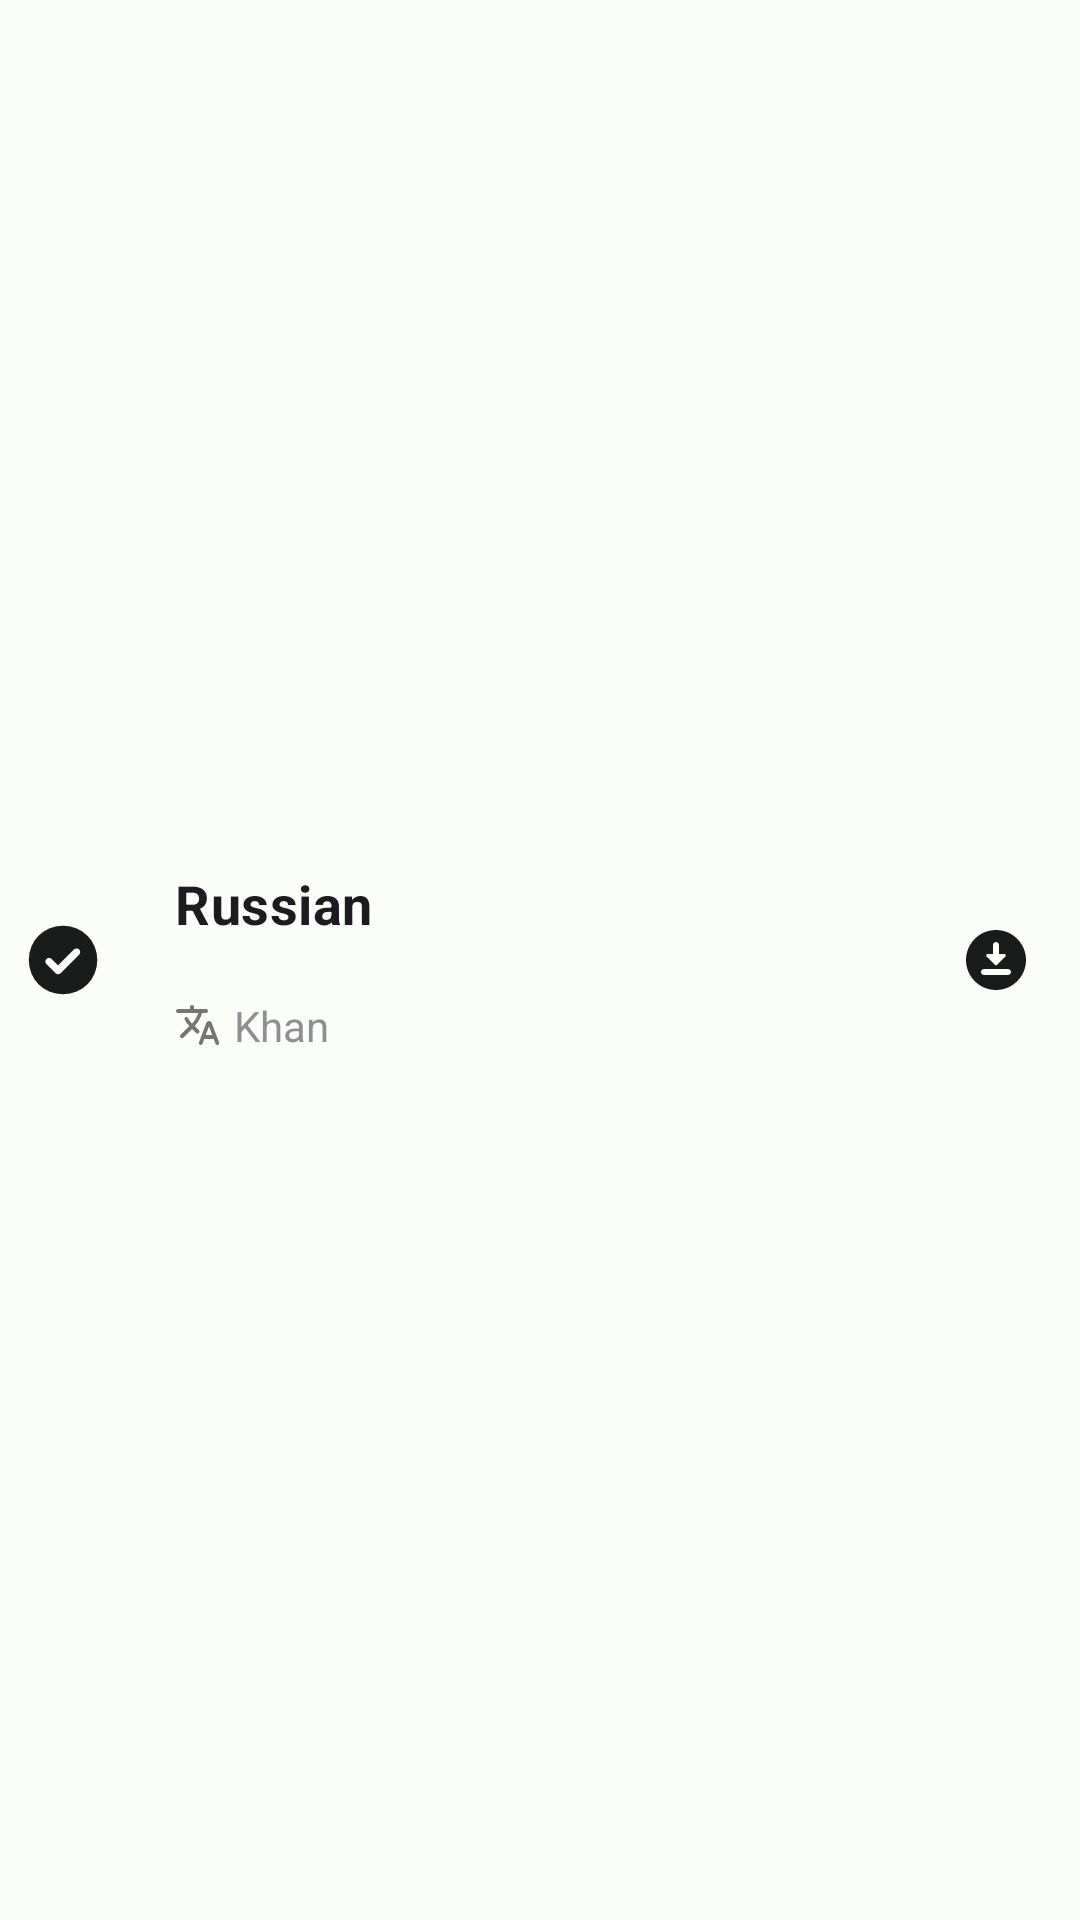

Where icons sit on this 1080 x 1920 app screen, as (x1=x1, y1=y1, x2=x2, y2=y2):
check: (x1=28, y1=925, x2=98, y2=995)
download for offline: (x1=966, y1=930, x2=1026, y2=990)
